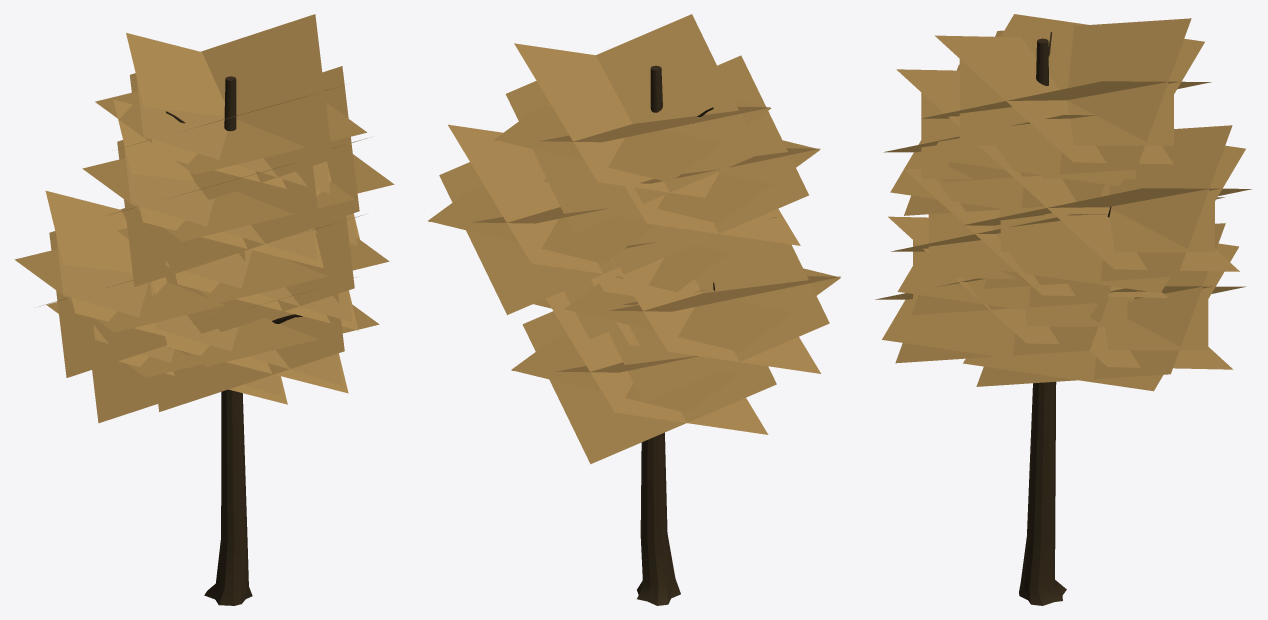
The model's file is Birch LOD 0.fbx.
3 views of the same model, side by side, from view 1: azimuth 30°, elevation 25°; view 2: azimuth 150°, elevation 25°; view 3: azimuth 270°, elevation 25° (orthographic). The views are drawn at different scales.
Parts seen in each view (by area): view 1: Birch_LOD_0; view 2: Birch_LOD_0; view 3: Birch_LOD_0.
Boxes of the visible parts, left/top/right/bottom form: Birch_LOD_0: left=14, top=14, right=394, bottom=605; Birch_LOD_0: left=428, top=14, right=840, bottom=605; Birch_LOD_0: left=875, top=14, right=1251, bottom=605.
Bounding box in the file's own units: 9.16 × 12.81 × 7.68.
